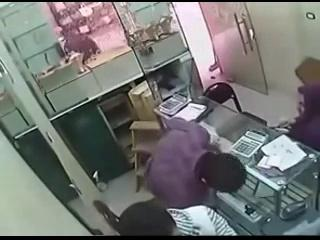Normal: (96, 118, 247, 236), (203, 82, 243, 113), (230, 128, 268, 158), (280, 200, 308, 220)
